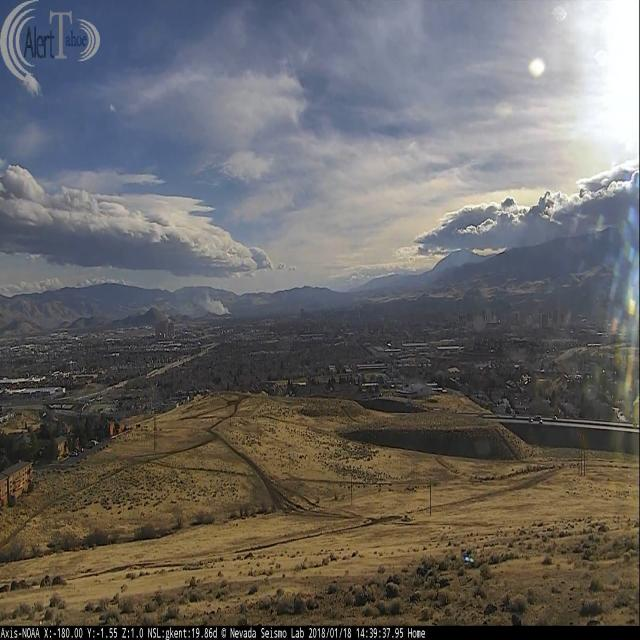smoke: (205, 296, 230, 316)
